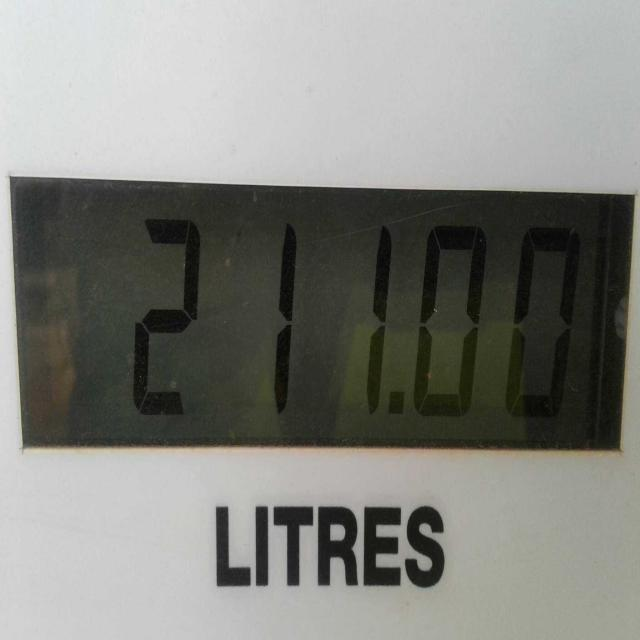.: (389, 385, 404, 417)
0: (412, 225, 484, 412), (508, 220, 574, 420)
1: (274, 221, 294, 410), (368, 225, 386, 409)
2: (137, 223, 197, 412)
